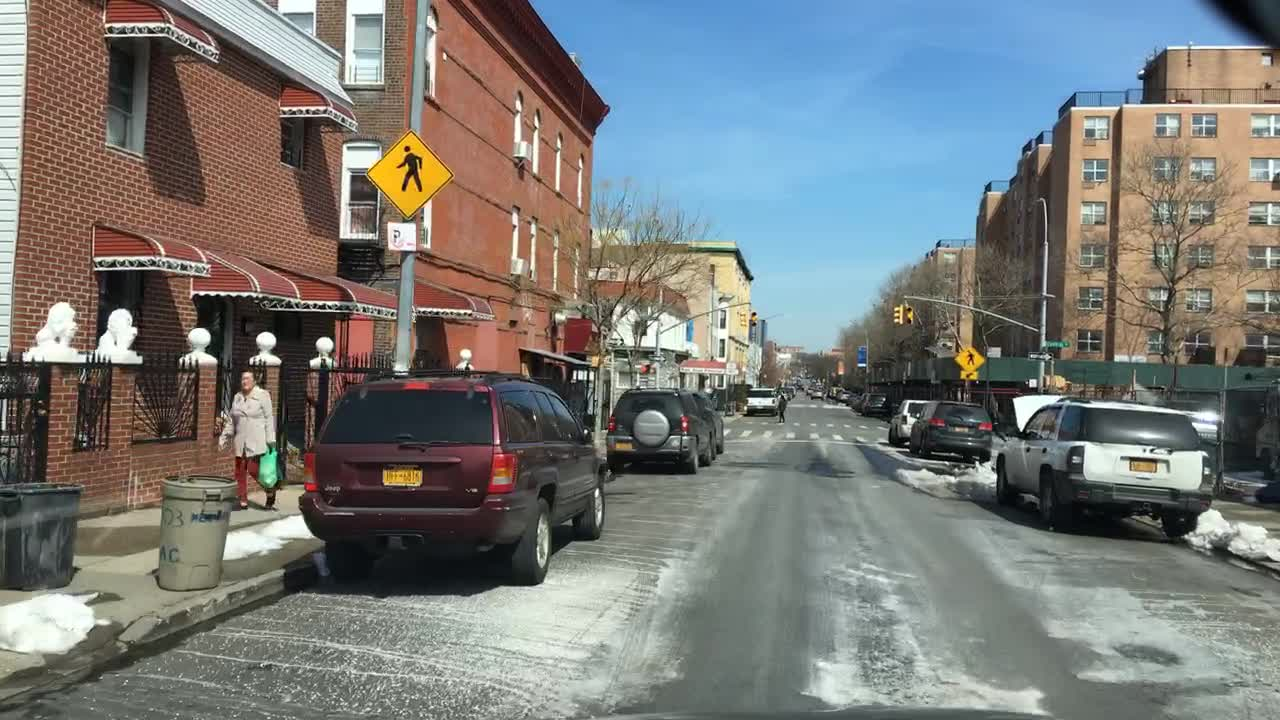car: (295, 367, 607, 585), (994, 391, 1218, 540), (602, 386, 727, 475), (909, 397, 997, 462), (886, 396, 934, 445), (744, 387, 778, 416), (859, 391, 891, 416), (848, 392, 865, 409), (825, 383, 841, 397), (836, 388, 851, 402), (781, 386, 793, 401), (787, 382, 797, 397), (804, 384, 815, 396)
person: (209, 367, 282, 509), (773, 391, 788, 424)
traffic light: (1049, 372, 1065, 386), (891, 304, 900, 324), (903, 304, 912, 323), (749, 309, 758, 327)
traffic sign: (364, 129, 455, 218), (384, 219, 417, 254), (955, 344, 985, 370), (1043, 338, 1072, 349), (605, 336, 625, 349), (1026, 352, 1053, 361), (958, 372, 979, 381)
